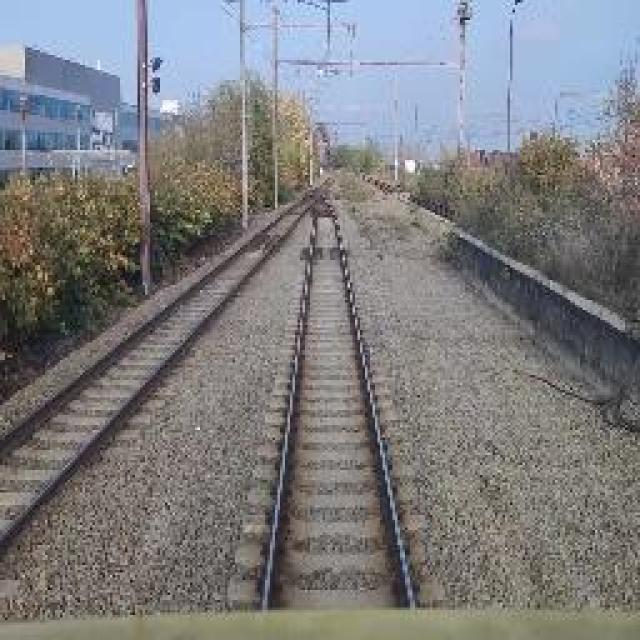rail: (1, 172, 340, 597), (226, 189, 460, 619)
